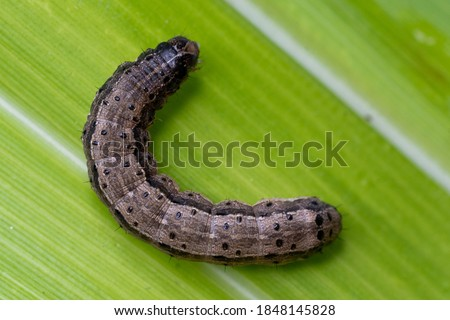Armyworm: (82, 27, 343, 275)
